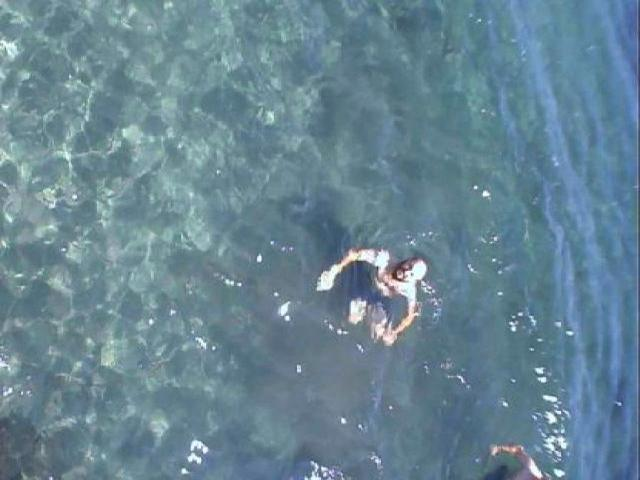swimming: (312, 238, 433, 342)
